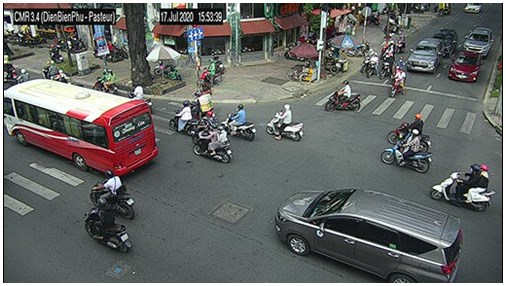xe_buyt: (4, 78, 158, 175)
xe_hoi: (276, 188, 463, 284), (407, 37, 444, 73), (448, 49, 482, 82), (463, 26, 494, 56), (434, 29, 459, 50), (465, 4, 482, 13)
xe_may: (429, 164, 495, 212), (380, 128, 432, 174), (90, 169, 136, 220), (84, 206, 132, 253), (387, 114, 432, 152), (266, 102, 304, 142), (193, 124, 232, 162), (220, 103, 255, 141), (324, 80, 361, 112), (168, 100, 197, 134), (196, 58, 223, 87), (93, 68, 119, 95), (130, 83, 153, 111), (389, 67, 407, 98), (381, 51, 394, 80), (367, 52, 378, 80), (42, 60, 57, 79), (15, 68, 30, 83), (395, 31, 405, 53), (55, 68, 68, 83)
